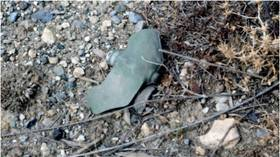butterfly: (86, 28, 170, 117)
